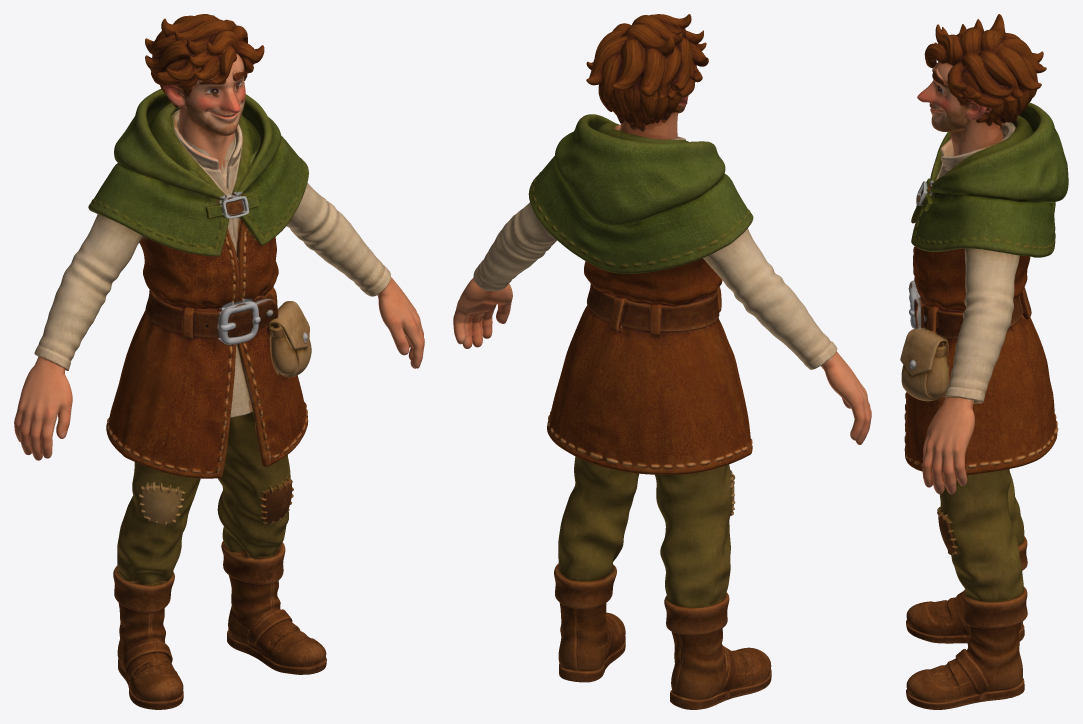
The model's file is medieval-villager.glb.
The picture shows the model from 3 angles, left to right: view 1: azimuth 30°, elevation 25°; view 2: azimuth 150°, elevation 25°; view 3: azimuth 270°, elevation 25°; orthographic projection. The views are drawn at different scales.
Visible parts, largest first — view 1: medieval-villager; view 2: medieval-villager; view 3: medieval-villager.
Part boxes in pixels (x1,y1,x2,y2): medieval-villager: [14, 14, 424, 709]; medieval-villager: [453, 14, 871, 709]; medieval-villager: [900, 14, 1068, 709].
Bounding box in the file's own units: 1.14 × 1.75 × 0.4189.
Materials: 1 (1 with a texture image).
